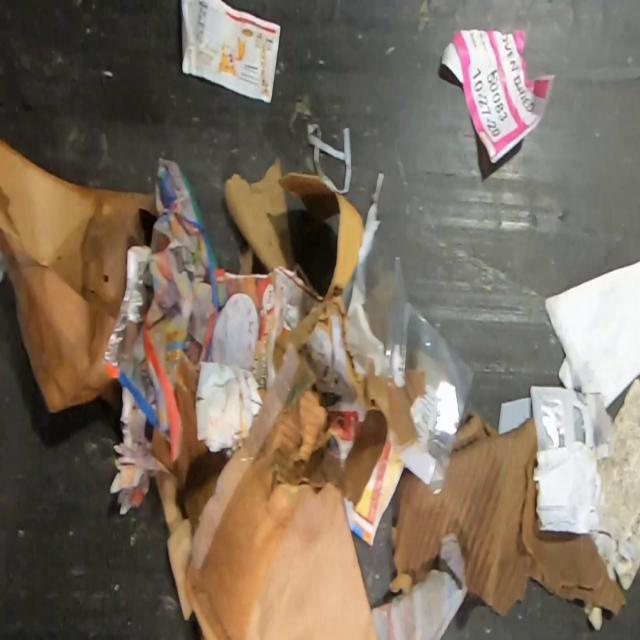cardboard: (151, 339, 382, 640), (389, 407, 630, 618), (308, 402, 405, 547), (272, 294, 367, 415), (276, 172, 364, 301), (222, 159, 295, 275), (364, 361, 427, 446), (388, 572, 412, 596)
rigid_plastic: (382, 253, 474, 494)
